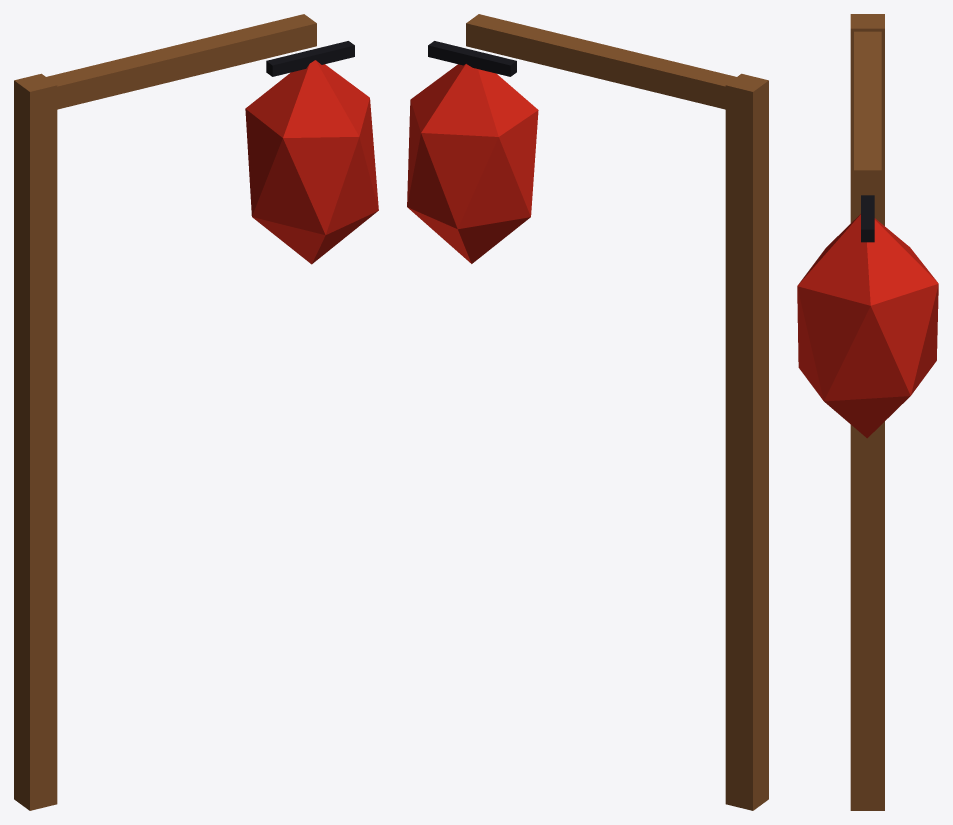
File: hanging_lantern.glb
3 renders of one model, left to right at view 1: azimuth 30°, elevation 25°; view 2: azimuth 150°, elevation 25°; view 3: azimuth 270°, elevation 25°, orthographic. The views are drawn at different scales.
Parts seen in each view (by area): view 1: hanging_lantern; view 2: hanging_lantern; view 3: hanging_lantern.
Boxes of the visible parts, left/top/right/bottom form: hanging_lantern: left=14, top=14, right=378, bottom=810; hanging_lantern: left=407, top=14, right=768, bottom=810; hanging_lantern: left=797, top=14, right=938, bottom=810.
Bounding box in the file's own units: 1.27 × 2.5 × 0.4101.
